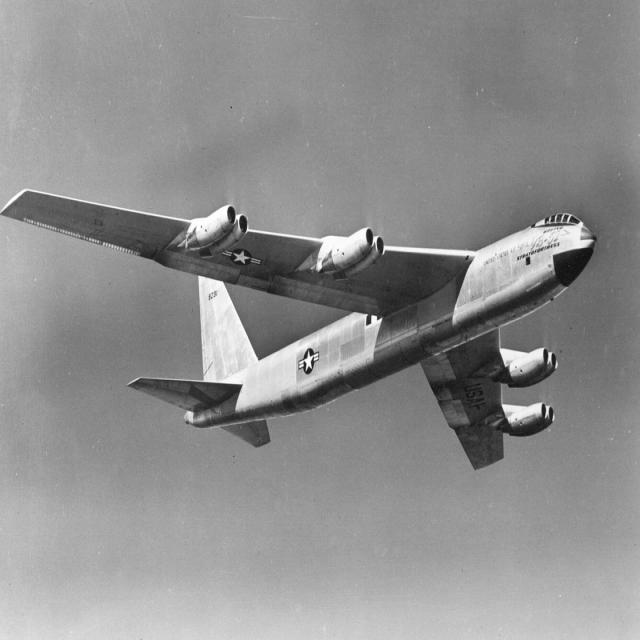B52: (0, 117, 602, 494)
